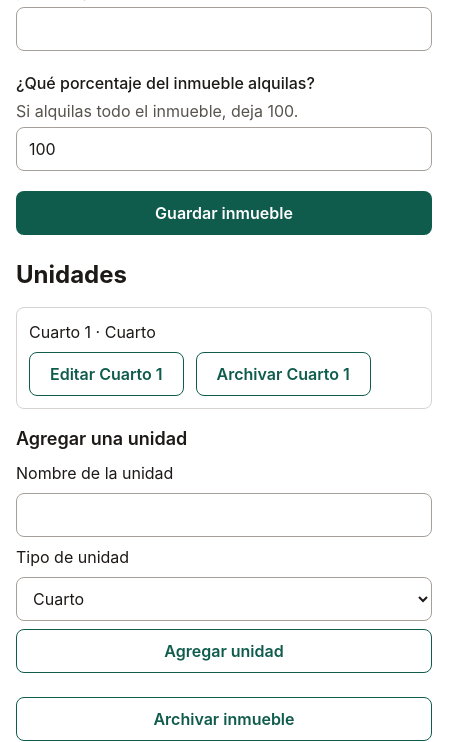
edit property › explains why a rented unit can't be archived
This screenshot has width=449, height=742.
(page scrolled)
Click the button "Archivar Cuarto 1": (283, 374) [196,352,371,396]
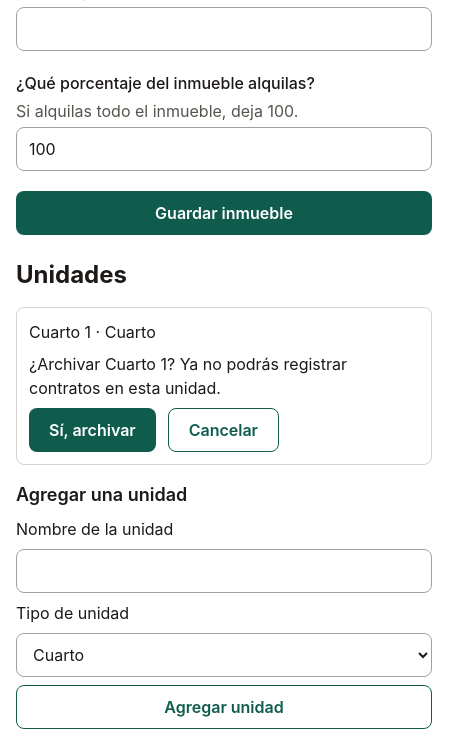
Check: the text "Ya no podrás registrar contratos en esta unidad" is shown, box [29,354,347,398]
Click the button "Sí, archivar": (92, 430) [29,408,156,452]
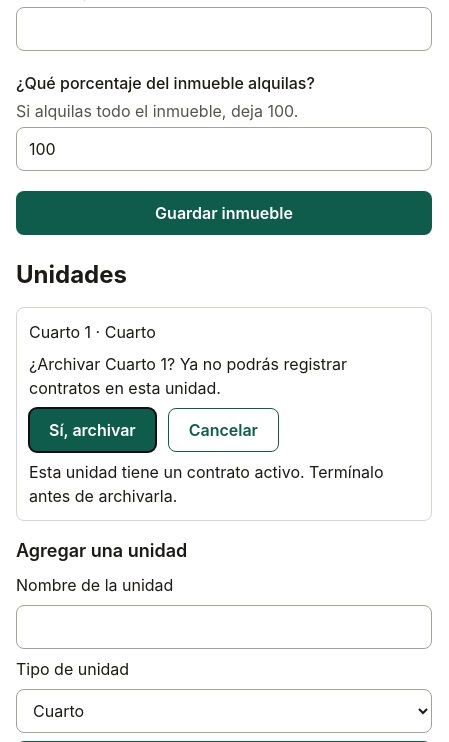
Check: the message reads "Esta unidad tiene un contrato activo. Termínalo antes de archivarla.", box [29,462,384,506]
